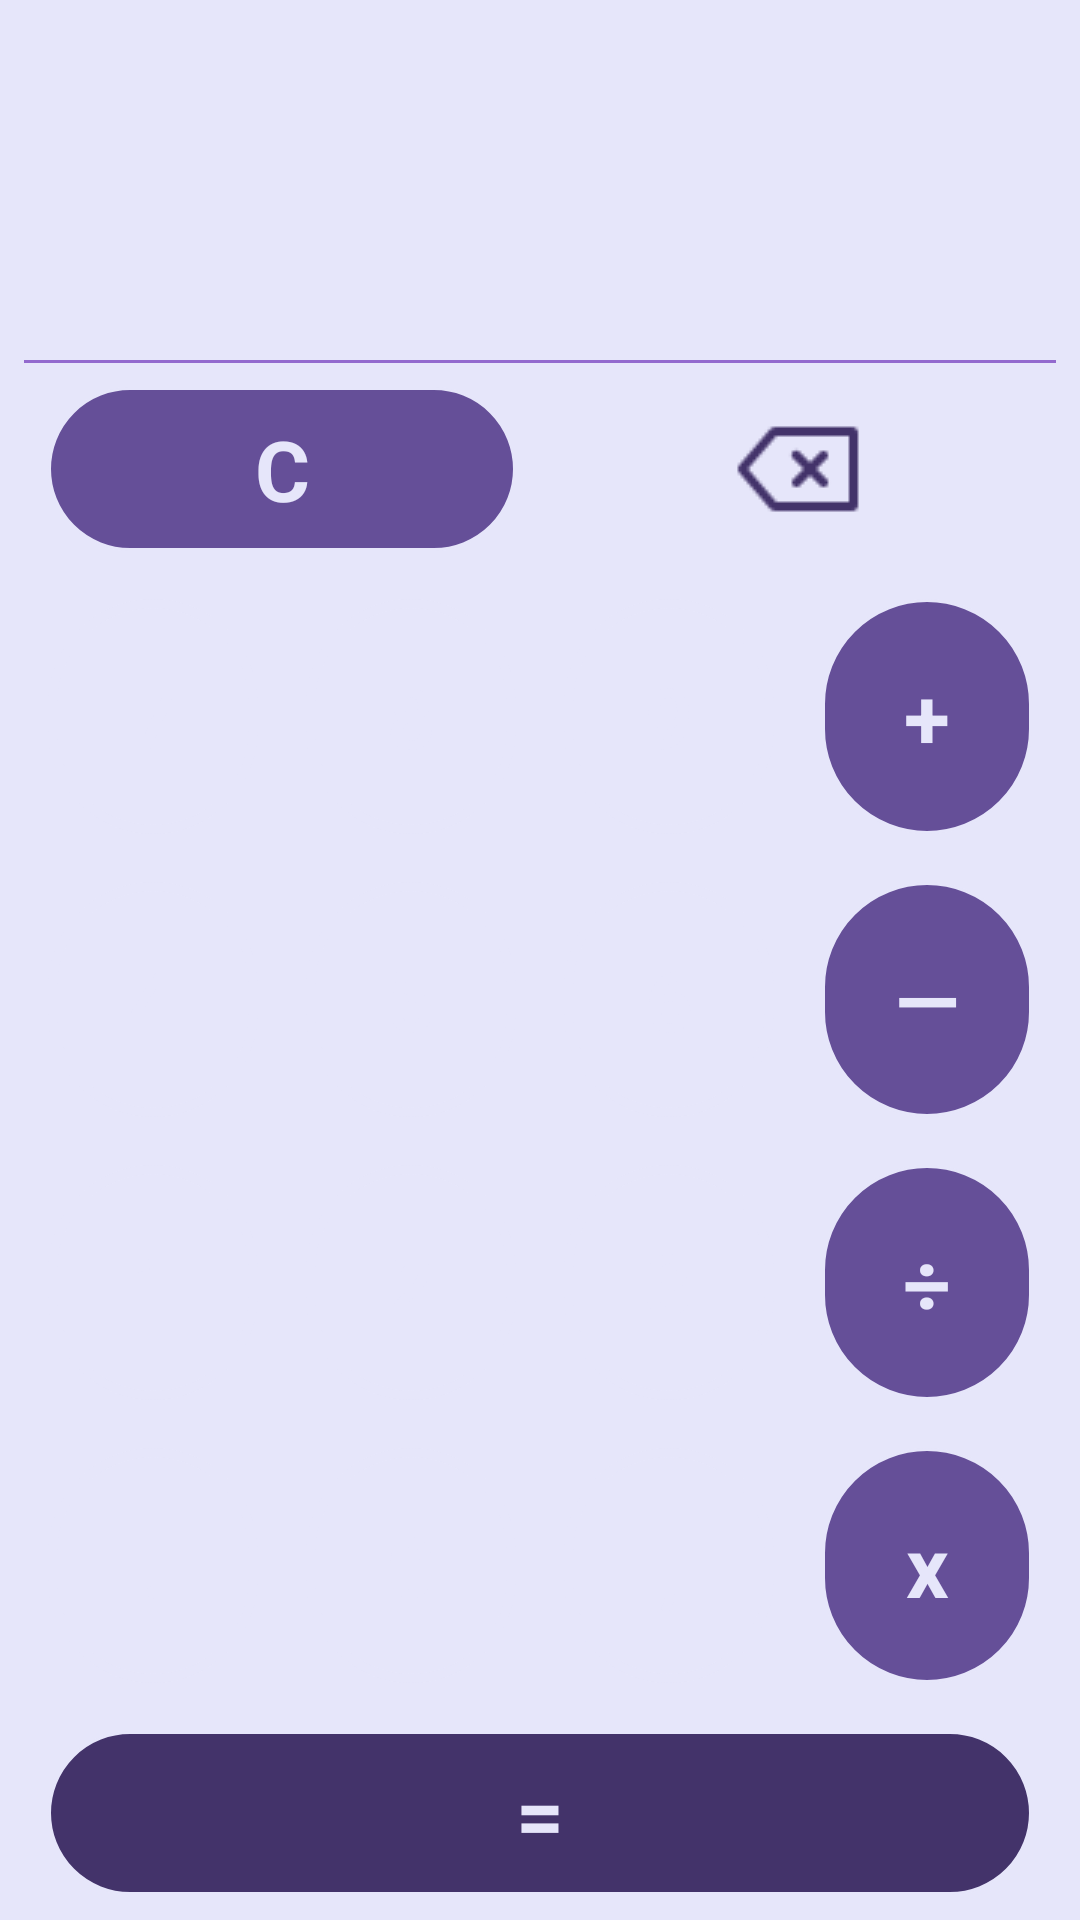

Screen size 1080 × 1920. Icon name, then its center in pixels as (x=x, y=y):
backspace: (x=798, y=469)
